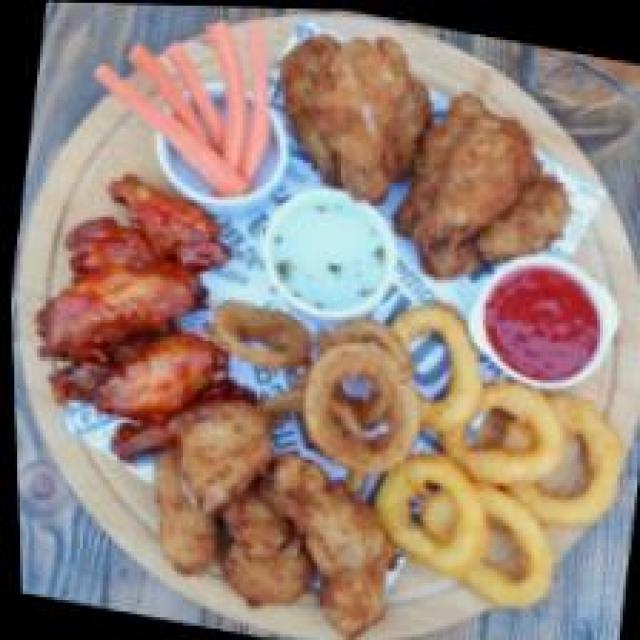Chicken Wings: (229, 8, 614, 312), (13, 173, 253, 456), (120, 420, 411, 640)
Onion Rings: (369, 331, 637, 620), (188, 255, 472, 474)
